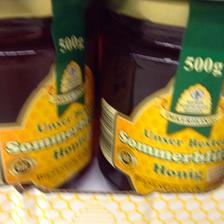Honig: (102, 0, 222, 190), (0, 0, 96, 188)
